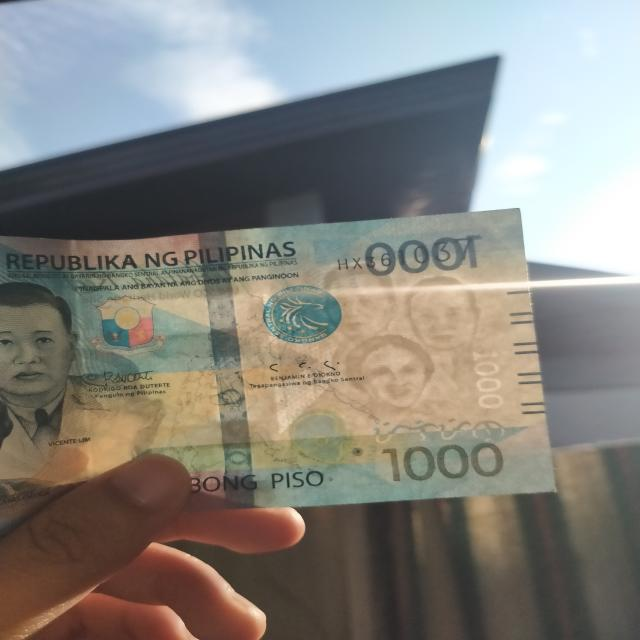security_thread: (197, 232, 259, 511)
see_through_mark: (358, 417, 518, 449)
value_watermark: (465, 348, 515, 412)
watermark: (315, 262, 488, 411)
